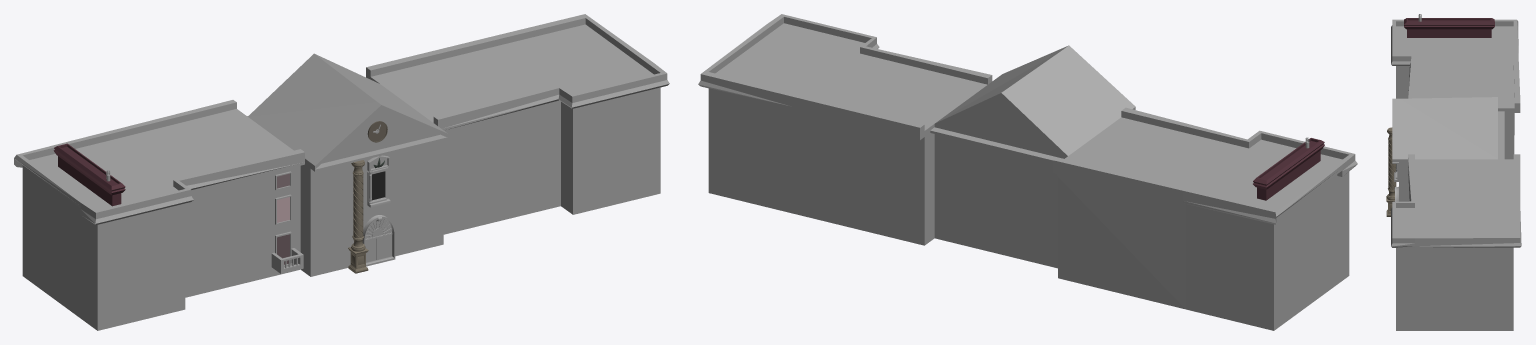
Rendered from castle.fbx.
3 renders of one model, left to right at view 1: azimuth 30°, elevation 25°; view 2: azimuth 150°, elevation 25°; view 3: azimuth 270°, elevation 25°, orthographic. The views are drawn at different scales.
Parts seen in each view (by area): view 1: pCube4, pCube13, pCube2, polySurface74, pCube7, polySurface106; view 2: pCube4, pCube13; view 3: pCube4, pCube13, polySurface74.
Boxes of the visible parts, bbox=[...] form: pCube4: bbox=[14, 14, 669, 330]; pCube13: bbox=[53, 143, 125, 206]; pCube2: bbox=[362, 215, 395, 266]; polySurface74: bbox=[348, 160, 368, 273]; pCube7: bbox=[367, 167, 390, 207]; polySurface106: bbox=[271, 248, 303, 273]; pCube4: bbox=[698, 14, 1357, 330]; pCube13: bbox=[1253, 138, 1324, 200]; pCube4: bbox=[1391, 19, 1521, 330]; pCube13: bbox=[1404, 18, 1494, 37]; polySurface74: bbox=[1386, 127, 1396, 216].
Size of the model in its own units: 5313 by 1428 by 1382.
